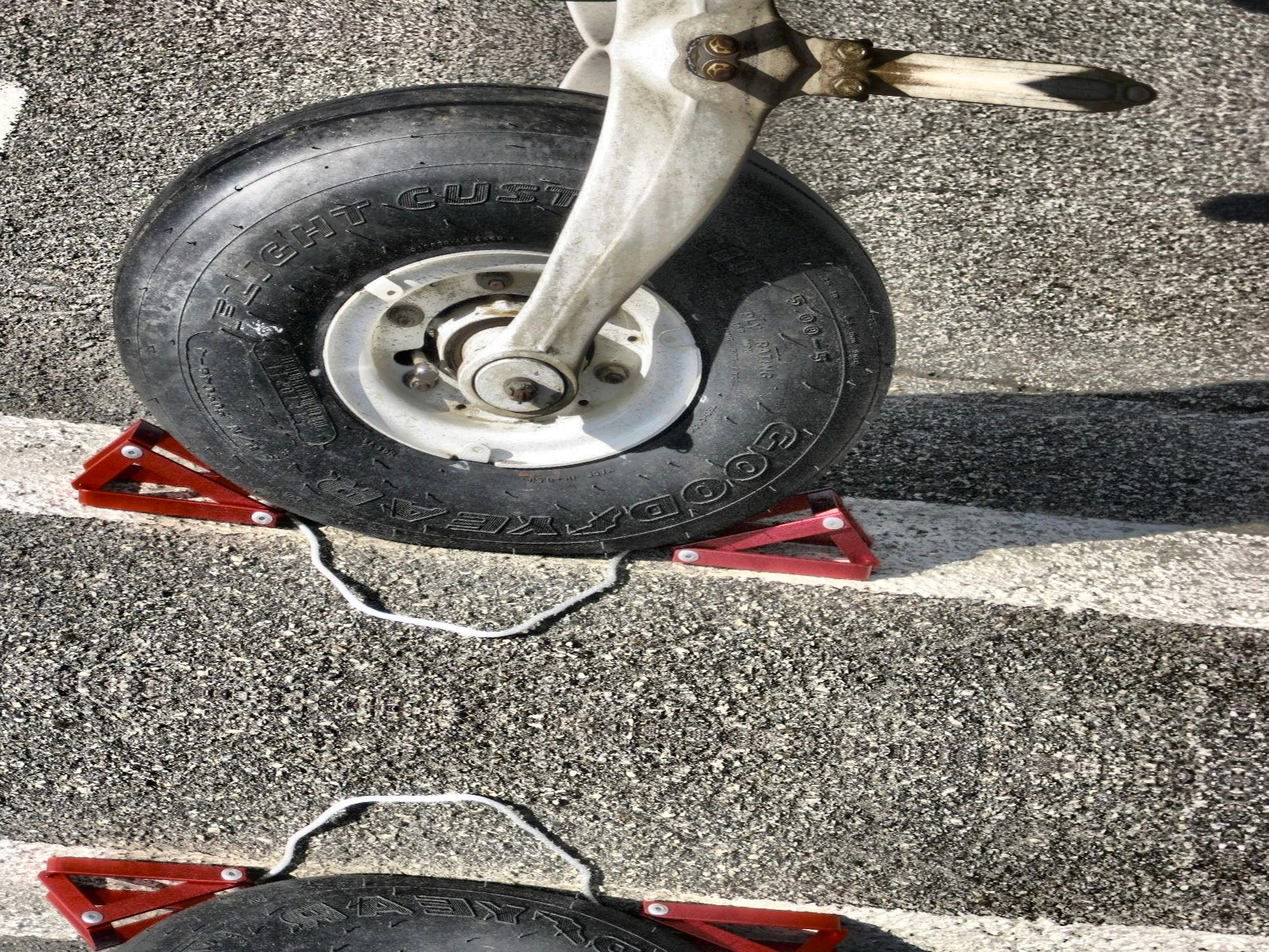chock: (62, 413, 292, 528), (667, 478, 891, 583), (25, 850, 255, 952), (631, 898, 855, 952)
wheel: (97, 53, 891, 572)
